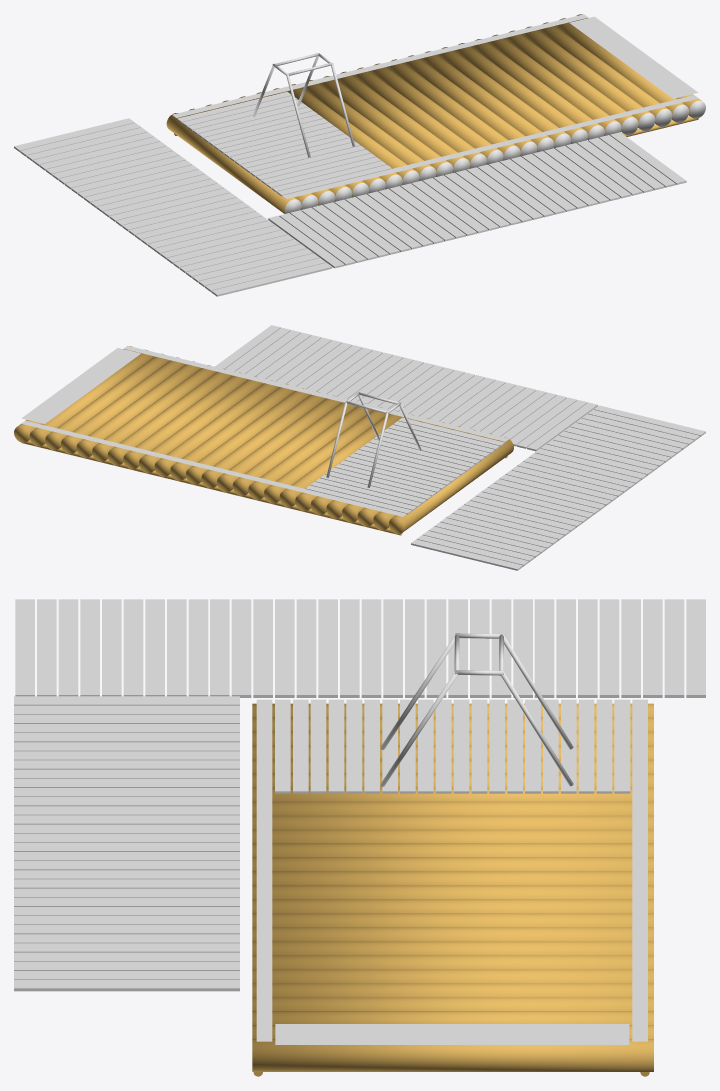
File: raft (1).fbx
The picture shows the model from 3 angles, top to bottom: view 1: azimuth 30°, elevation 25°; view 2: azimuth 150°, elevation 25°; view 3: azimuth 270°, elevation 25°; orthographic projection. The views are drawn at different scales.
Visible parts, largest first — view 1: Cylinder.002, Plane.004; view 2: Cylinder.002, Plane.004; view 3: Cylinder.002, Plane.004.
Boxes of the visible parts, bbox=[...] form: Cylinder.002: bbox=[166, 14, 705, 213]; Plane.004: bbox=[14, 118, 686, 296]; Cylinder.002: bbox=[14, 345, 513, 535]; Plane.004: bbox=[215, 325, 705, 570]; Cylinder.002: bbox=[252, 633, 653, 1076]; Plane.004: bbox=[14, 599, 705, 991].
Size of the model in its own units: 1658 by 253 by 1047.
